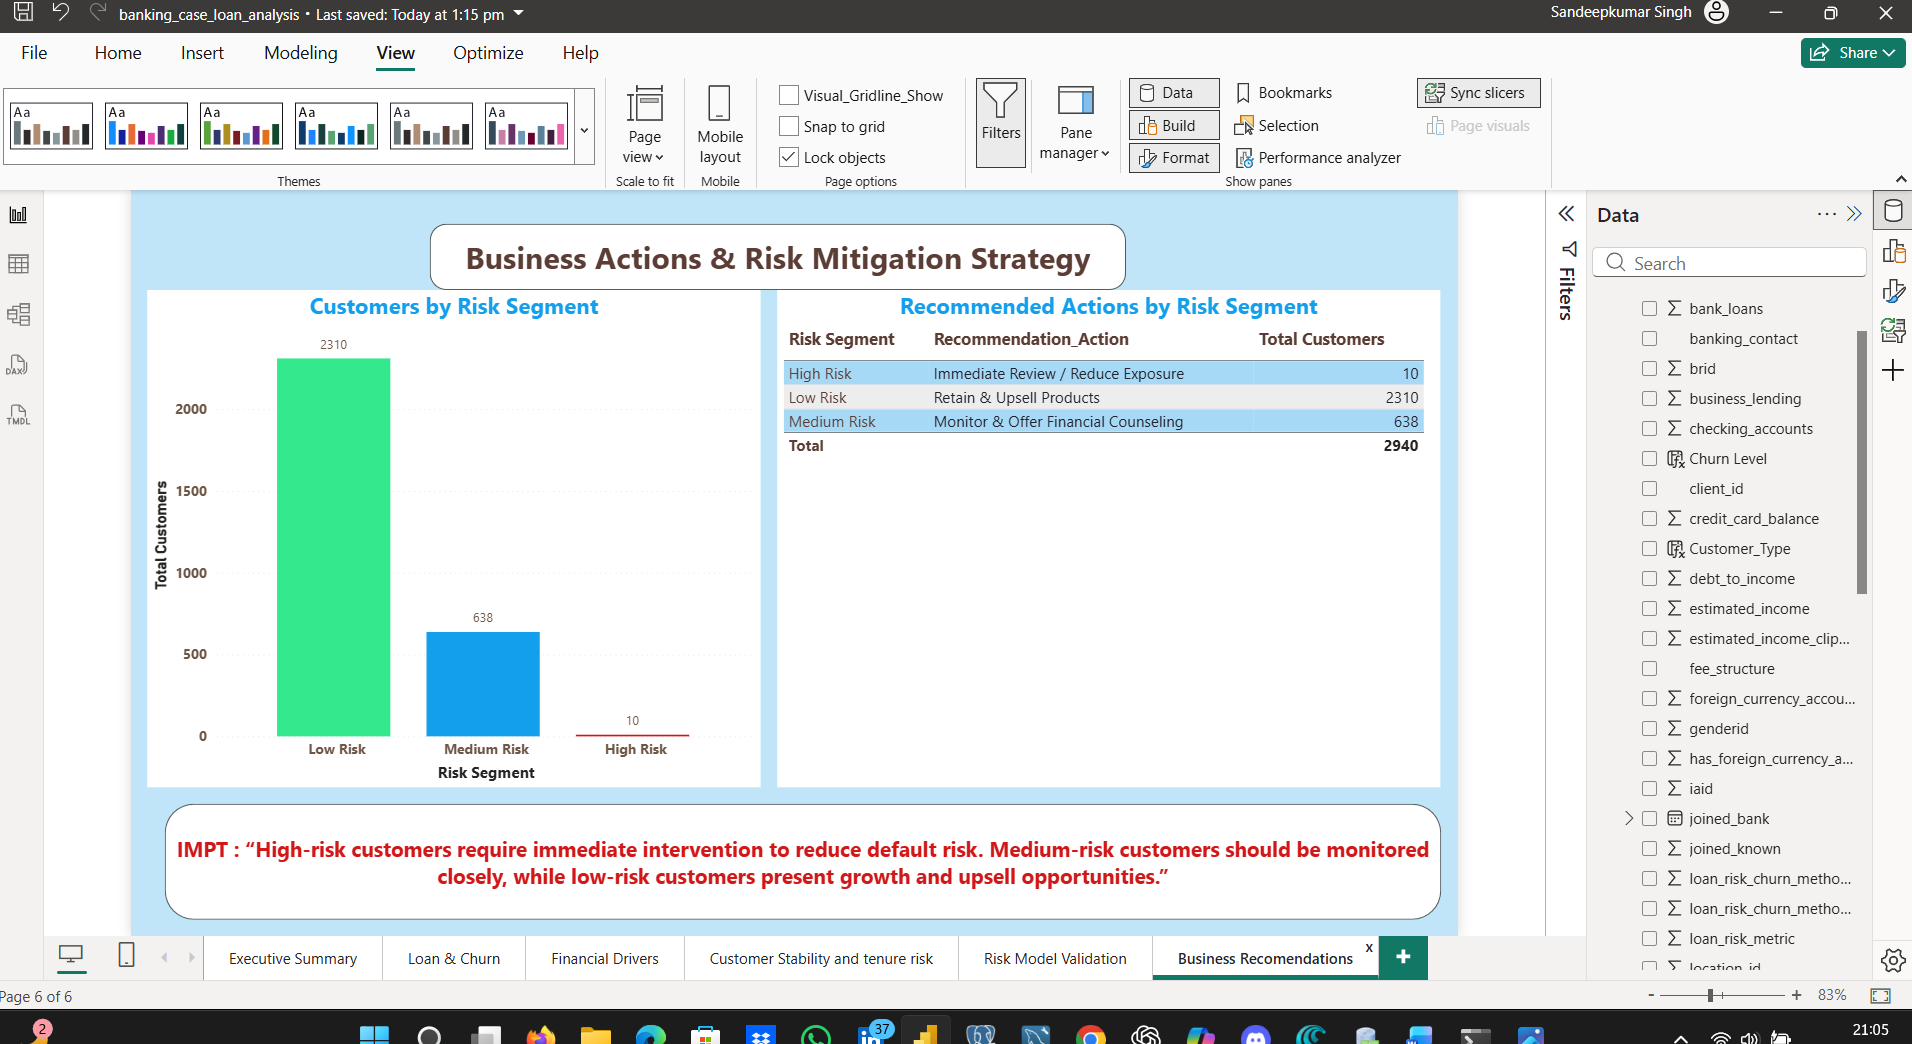

Layout of this report page (visuals, bound fields, positions):
{"tool":"powerbi","page":{"name":"Business Recomendations","canvas":[1280,720],"ordinal":5},"visuals":[{"type":"shape","box":[288,32,672,64],"z":0},{"type":"clusteredColumnChart","title":"Customers by Risk Segment","fields":{"Category":["banking_case customers_risk_agg.risk_segment_final"],"Y":["Measures (2).Total Customers"]},"box":[16,96,592,480],"z":1000},{"type":"tableEx","title":"Recommended Actions by Risk Segment","fields":{"Values":["banking_case customers_risk_agg.risk_segment_final","banking_case customers_risk_agg.Recommendation_Action","Measures (2).Total Customers"]},"box":[624,96,640,480],"z":2000},{"type":"shape","box":[32,592,1232,112],"z":3000}]}

Visuals, with their boxes on the page's 1280x720 design canvas (x1, y1, x2, y2). These are canvas units, not pixel positions in the 1912x1044 screenshot, which may show the page scaled, cropped or inside an application window:
shape: pyautogui.locateOnScreen(288, 32, 960, 96)
"Customers by Risk Segment" clusteredColumnChart: pyautogui.locateOnScreen(16, 96, 608, 576)
"Recommended Actions by Risk Segment" tableEx: pyautogui.locateOnScreen(624, 96, 1264, 576)
shape: pyautogui.locateOnScreen(32, 592, 1264, 704)
